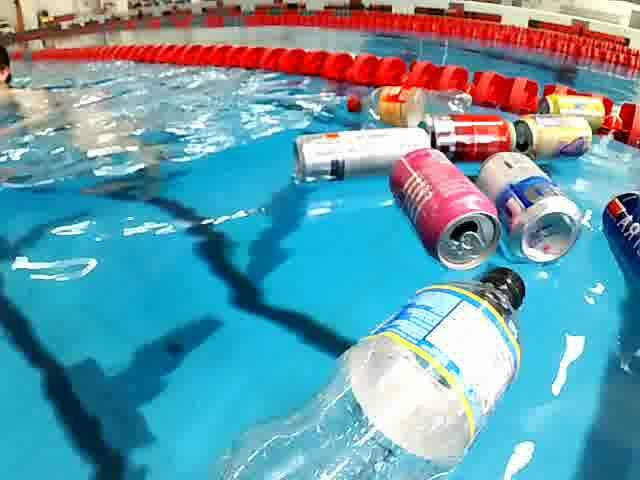Bottle: (190, 256, 532, 480), (336, 84, 473, 133)
Can: (390, 149, 504, 276), (480, 146, 584, 270), (282, 125, 433, 182), (408, 110, 526, 162), (594, 187, 640, 282), (515, 114, 595, 159), (528, 96, 615, 127)
